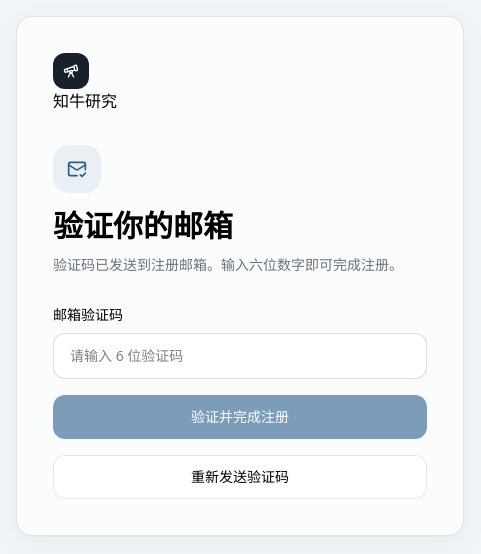
Test: AccountRecoveryCard › accepts and verifies a six-digit registration code
Expected: the text "验证码已发送到注册邮箱。输入六位数字即可完成注册。" is shown, [53,253,427,277]
In the field labelled "邮箱验证码": x=240, y=356 [53,333,427,379], type "123456"
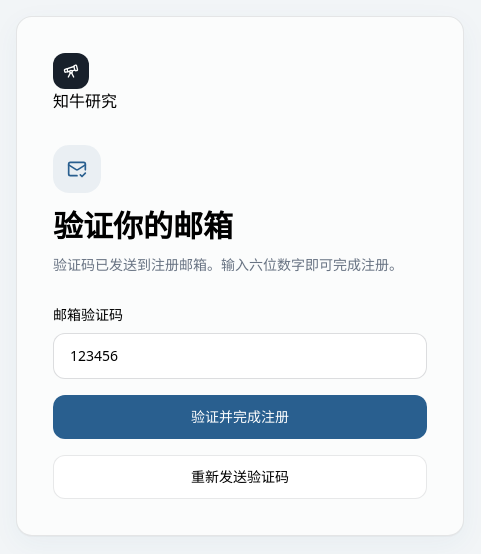
Click the button "验证并完成注册": x=240, y=417 [53,395,427,439]
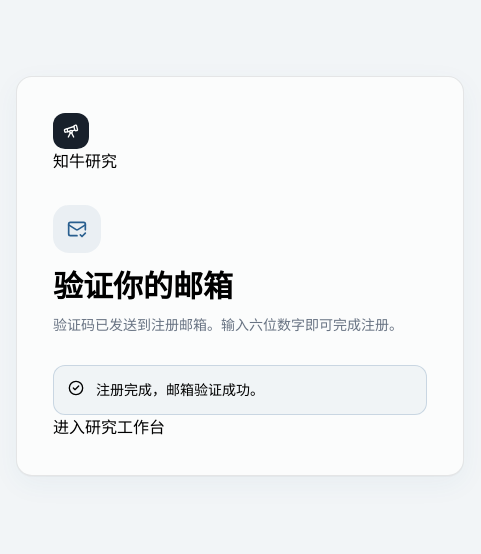
Now the text "注册完成，邮箱验证成功。" is shown, box [53,365,427,415]
